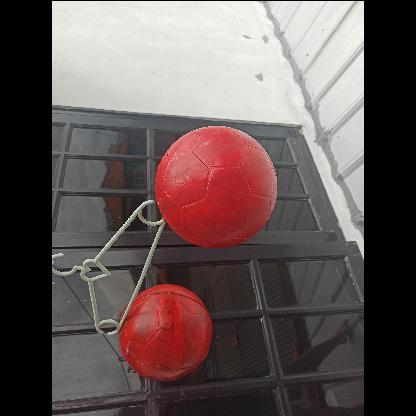red_ball: (155, 124, 275, 244), (118, 285, 210, 377)
